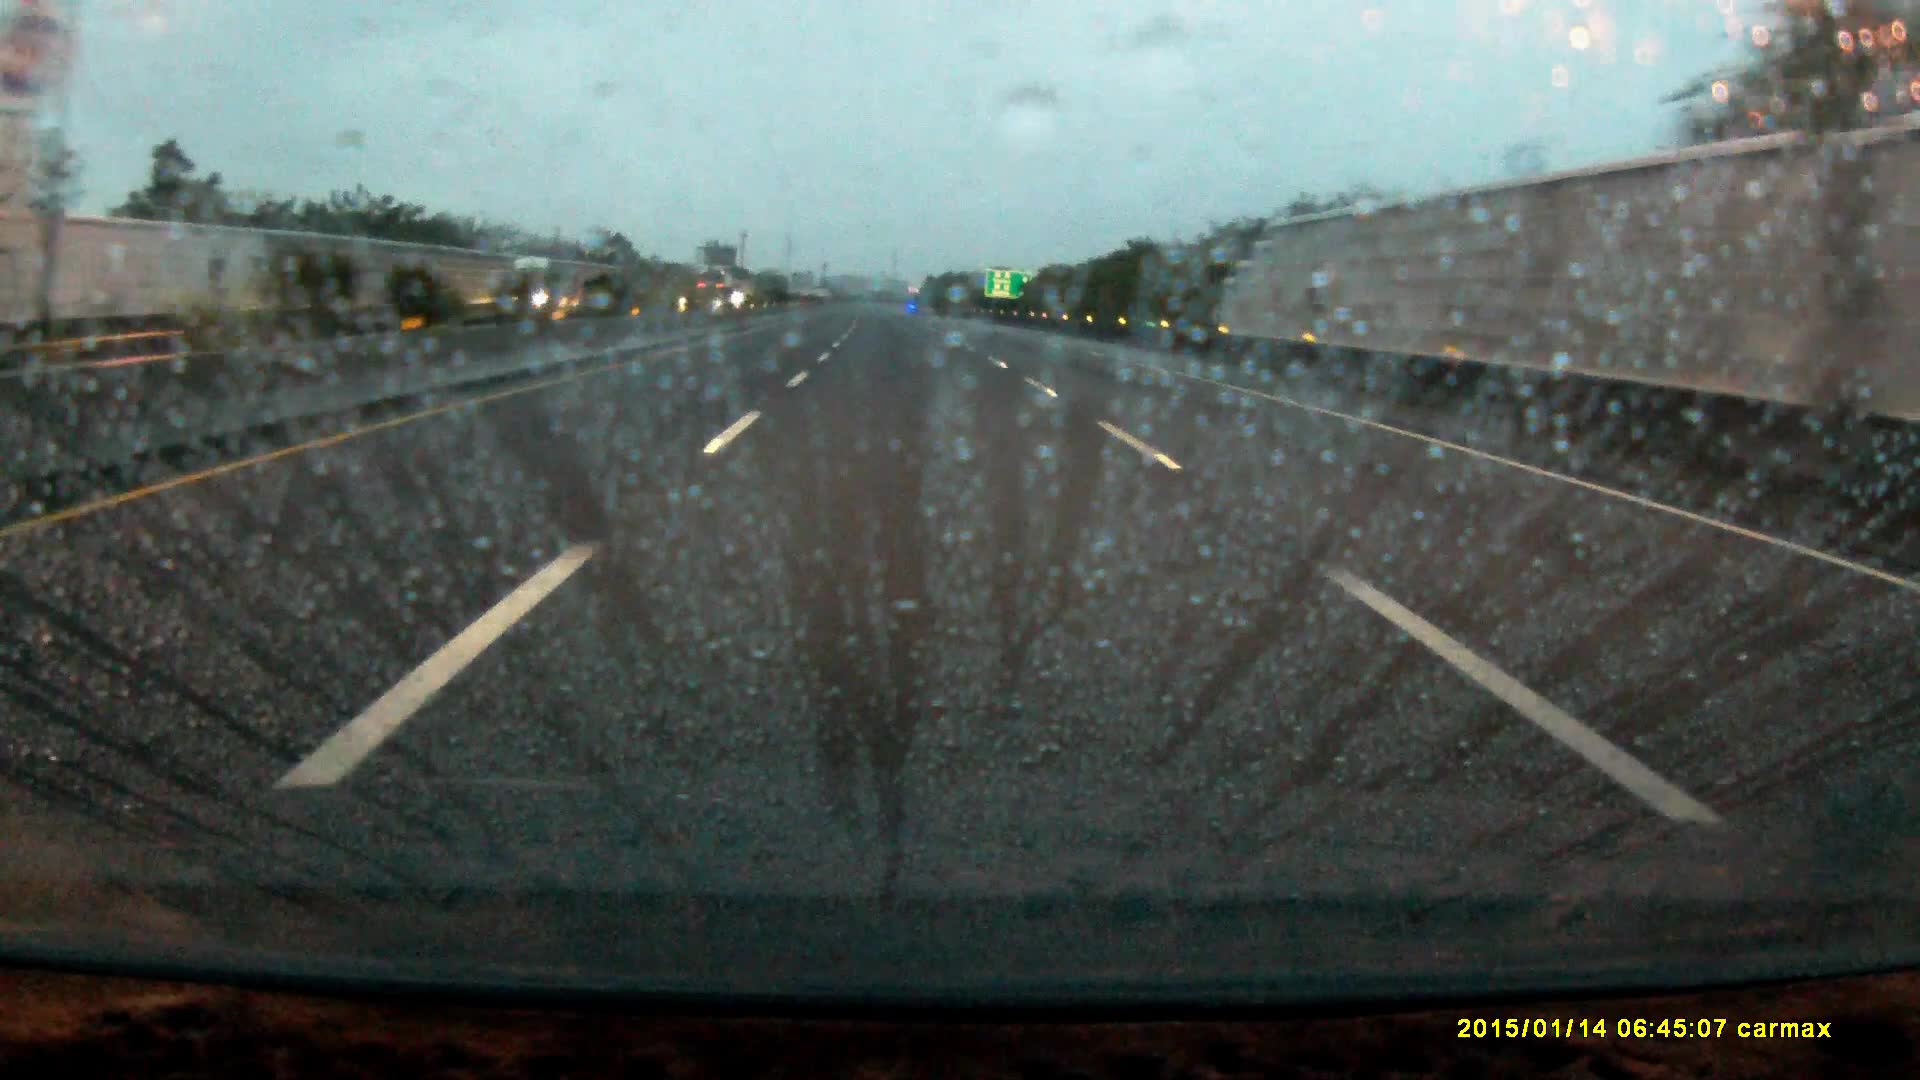vehicle: (510, 256, 588, 314), (696, 276, 737, 310)
